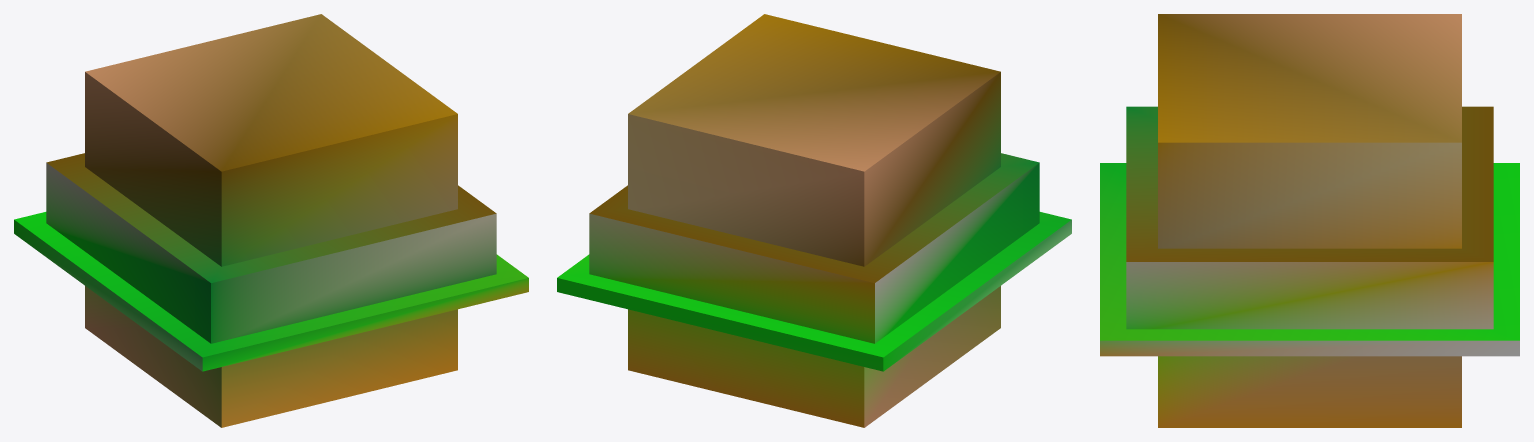
Rendered from burger1.fbx.
3 views of the same model, side by side, from view 1: azimuth 30°, elevation 25°; view 2: azimuth 150°, elevation 25°; view 3: azimuth 270°, elevation 25° (orthographic). The views are drawn at different scales.
Parts seen in each view (by area): view 1: Items_Burger_01; view 2: Items_Burger_01; view 3: Items_Burger_01.
Part boxes in pixels (x1=…): Items_Burger_01: x1=14, y1=14, x2=528, y2=427; Items_Burger_01: x1=557, y1=14, x2=1071, y2=427; Items_Burger_01: x1=1100, y1=14, x2=1519, y2=427.
Bounding box in the file's own units: 8.03 × 6.02 × 8.03.
